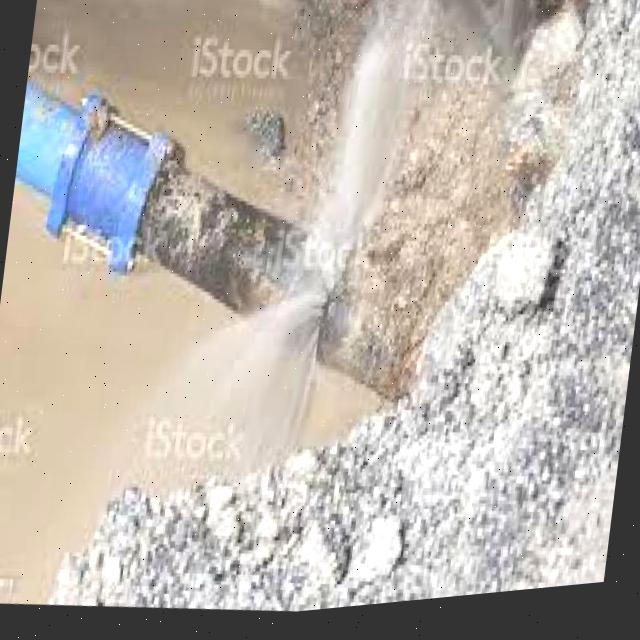corrosion: (204, 173, 347, 380)
